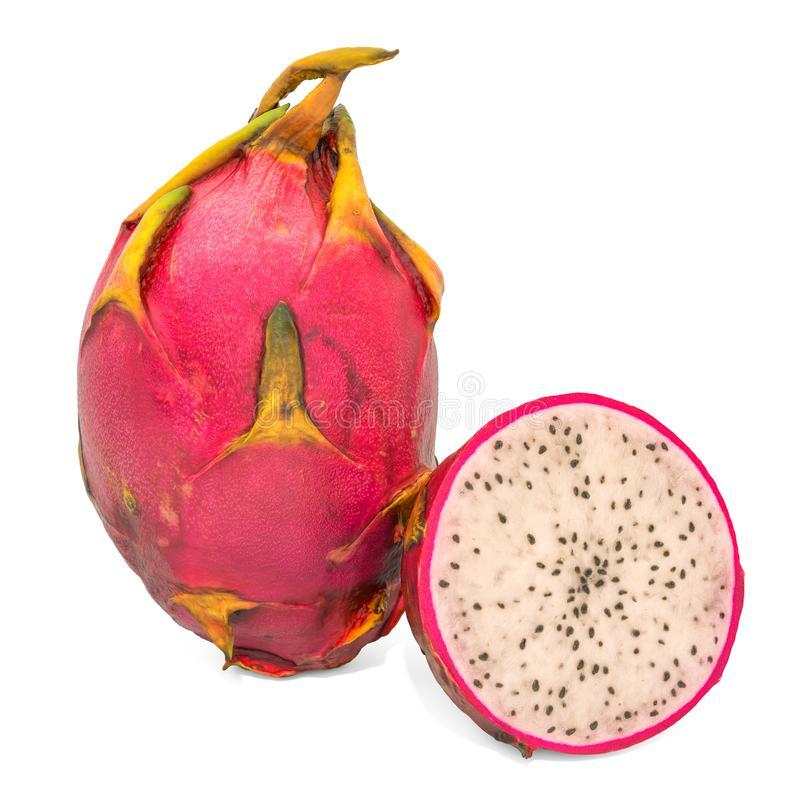dragon-fruit: (67, 25, 466, 687), (407, 387, 756, 752)
